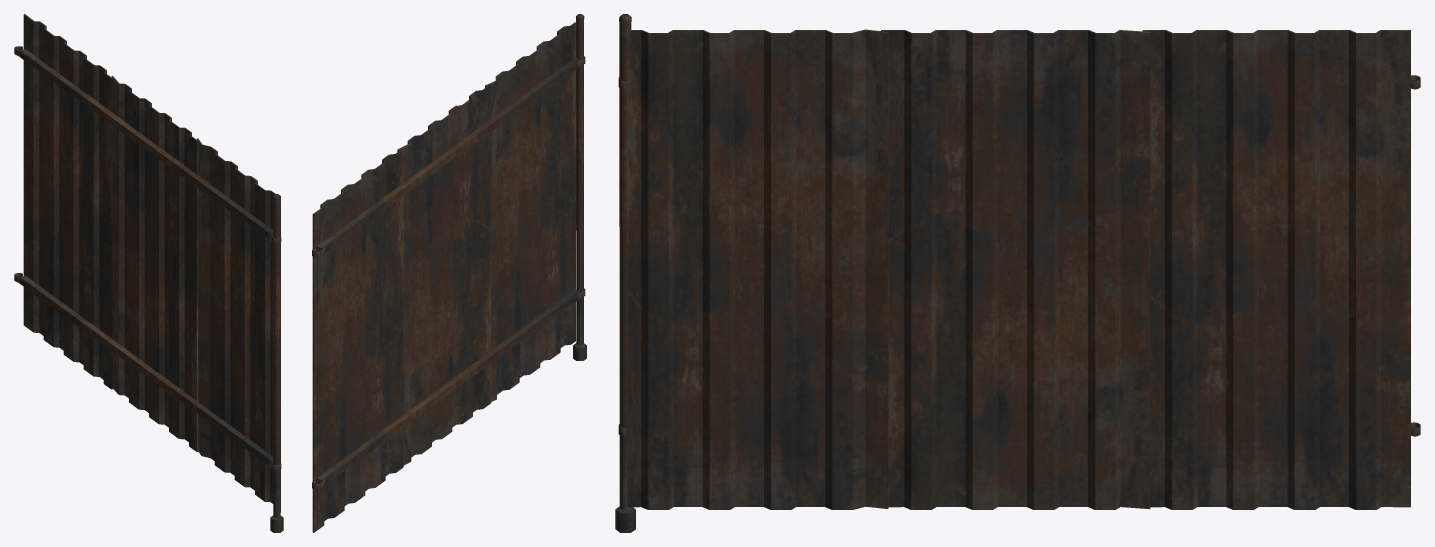
File: RustedFence_A_C.fbx
The picture shows the model from 3 angles, left to right: view 1: azimuth 30°, elevation 25°; view 2: azimuth 150°, elevation 25°; view 3: azimuth 270°, elevation 25°; orthographic projection. The views are drawn at different scales.
Parts seen in each view (by area): view 1: RustedFence_A_C; view 2: RustedFence_A_C; view 3: RustedFence_A_C.
Part boxes in pixels (<box>): RustedFence_A_C: <box>14,14,283,532</box>; RustedFence_A_C: <box>312,14,586,532</box>; RustedFence_A_C: <box>615,14,1420,532</box>.
Bounding box in the file's own units: 9.05 × 216 × 306.
